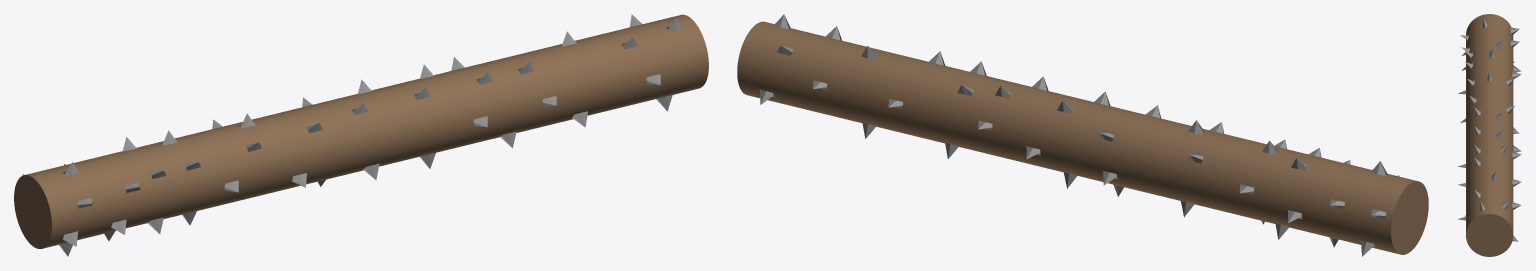
The model's file is BuchePiquante.fbx.
The picture shows the model from 3 angles, left to right: view 1: azimuth 30°, elevation 25°; view 2: azimuth 150°, elevation 25°; view 3: azimuth 270°, elevation 25°; orthographic projection. The views are drawn at different scales.
Parts seen in each view (by area): view 1: Cylinder; view 2: Cylinder; view 3: Cylinder.
Boxes of the visible parts, <box> form: Cylinder: <box>14,14,708,256</box>; Cylinder: <box>737,14,1428,256</box>; Cylinder: <box>1458,14,1521,256</box>.
Size of the model in its own units: 2000 by 275 by 273.
